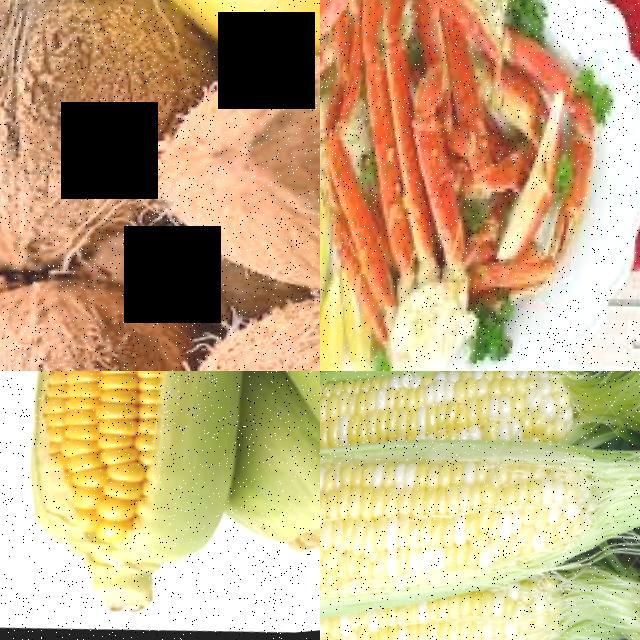coconut: (138, 33, 320, 322), (0, 0, 163, 281), (0, 254, 206, 371)
corn: (320, 424, 596, 640), (6, 371, 229, 561), (320, 371, 581, 487), (320, 551, 564, 640)
crab: (411, 19, 600, 307), (320, 58, 477, 355), (320, 0, 485, 103)
